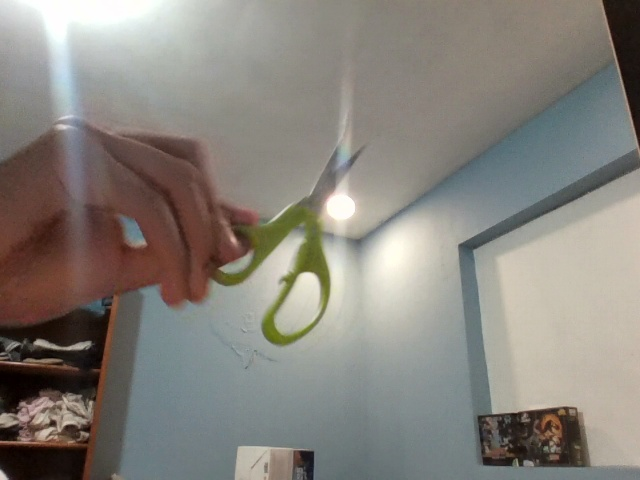tijeras: (213, 50, 372, 347)
